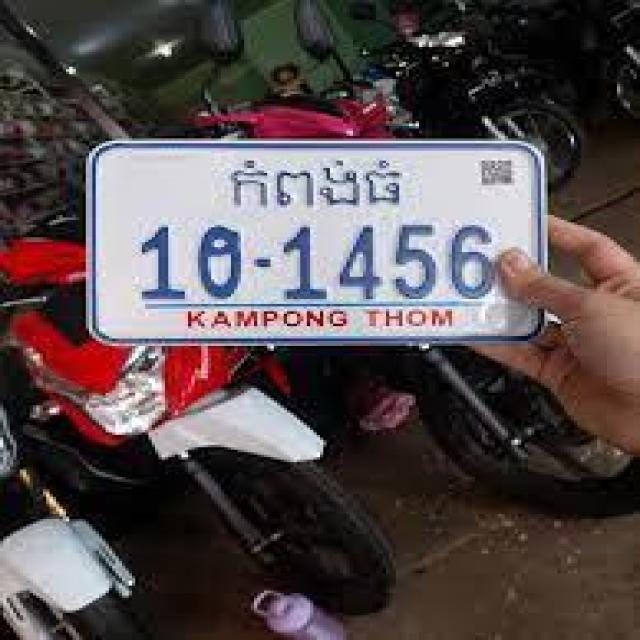Kampong_Thom: (228, 153, 404, 208)
